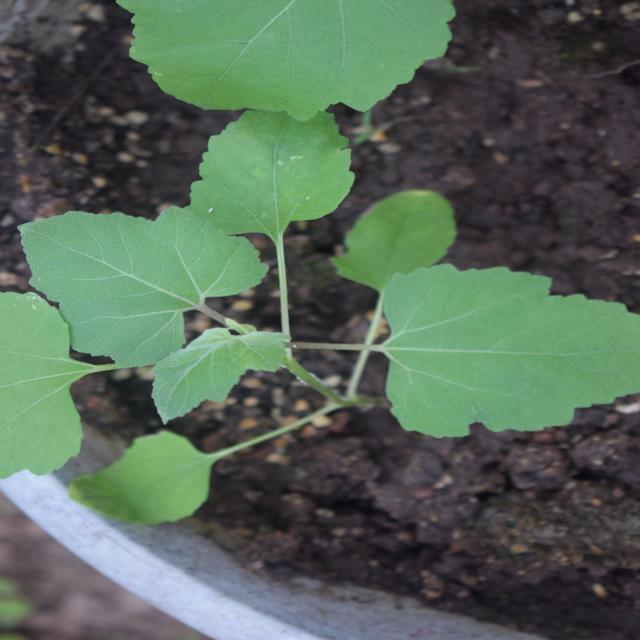cocklebur: (155, 0, 515, 580)
